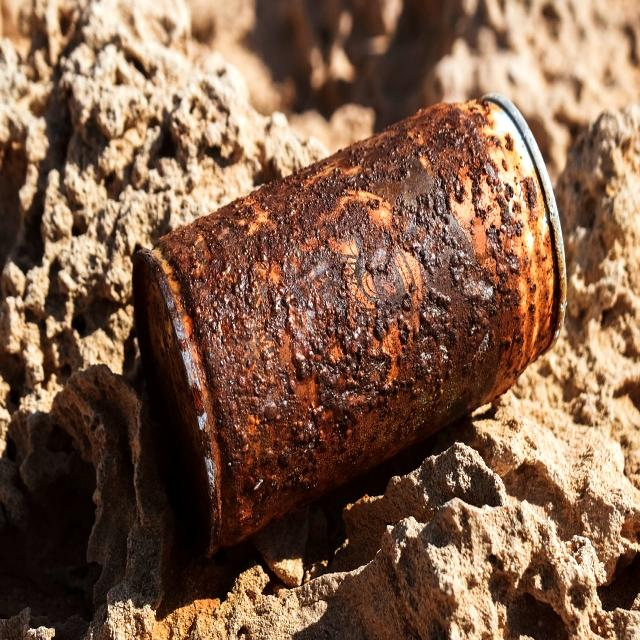Metal: (129, 85, 574, 572)
